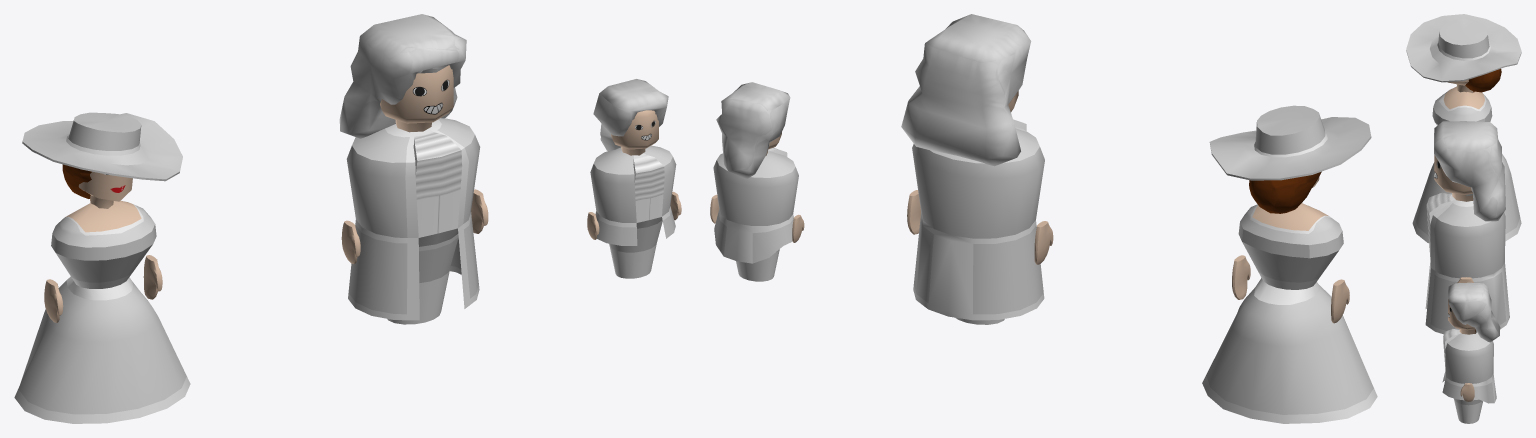
The model's file is NPC_famiglia.fbx.
The picture shows the model from 3 angles, left to right: view 1: azimuth 30°, elevation 25°; view 2: azimuth 150°, elevation 25°; view 3: azimuth 270°, elevation 25°; orthographic projection. The views are drawn at different scales.
Parts seen in each view (by area): view 1: vestito donna, vestito uomo, testa uomo.001, CAPPELLO DONNA, vestito bambino, vestito uomo.001, testa bambino, vestito bambino.001, testa donna, corpo donna, mani donna, mani uomo; view 2: vestito donna, vestito uomo, testa uomo.001, CAPPELLO DONNA, vestito bambino, testa bambino, testa donna, mani donna, corpo donna, mani uomo, vestito bambino.001; view 3: vestito uomo, CAPPELLO DONNA, testa uomo.001, vestito bambino, vestito donna, testa bambino, vestito bambino.001, testa donna, corpo donna, vestito uomo.001, mani bambino.
Part boxes in pixels (x1,y1,x2,y2): vestito donna: (14,204,190,423); vestito uomo: (346,118,480,320); testa uomo.001: (339,14,466,138); CAPPELLO DONNA: (22,112,182,181); vestito bambino: (590,145,676,252); vestito uomo.001: (387,129,462,324); testa bambino: (593,79,668,155); vestito bambino.001: (609,153,664,278); testa donna: (62,164,132,208); corpo donna: (65,200,141,232); mani donna: (44,255,162,322); mani uomo: (341,189,488,264); vestito donna: (1202,204,1377,423); vestito uomo: (912,127,1044,320); testa uomo.001: (901,14,1031,166); CAPPELLO DONNA: (1209,105,1371,180); vestito bambino: (713,151,798,263); testa bambino: (716,82,790,178); testa donna: (1249,171,1321,213); mani donna: (1232,255,1349,323); corpo donna: (1252,203,1328,230); mani uomo: (907,190,1053,264); vestito bambino.001: (736,147,787,281); vestito uomo: (1425,192,1509,334); CAPPELLO DONNA: (1406,14,1521,82); testa uomo.001: (1434,121,1505,221); vestito bambino: (1442,328,1496,405); vestito donna: (1412,90,1521,243); testa bambino: (1448,282,1500,342); vestito bambino.001: (1443,329,1482,423); testa donna: (1447,68,1501,92); corpo donna: (1443,86,1484,109); vestito uomo.001: (1426,192,1454,265); mani bambino: (1460,383,1474,401).
Bounding box in the file's own units: 5.3 × 2.3 × 1.14.
Materials: 3 (1 with a texture image).
